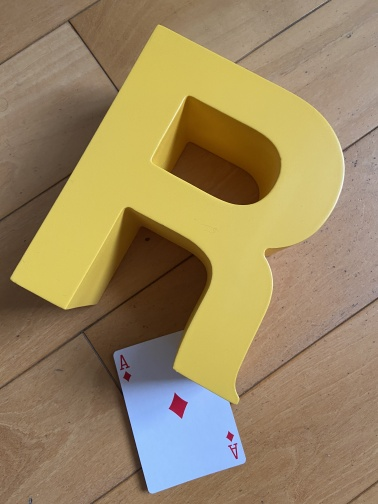ace: (111, 323, 248, 496)
